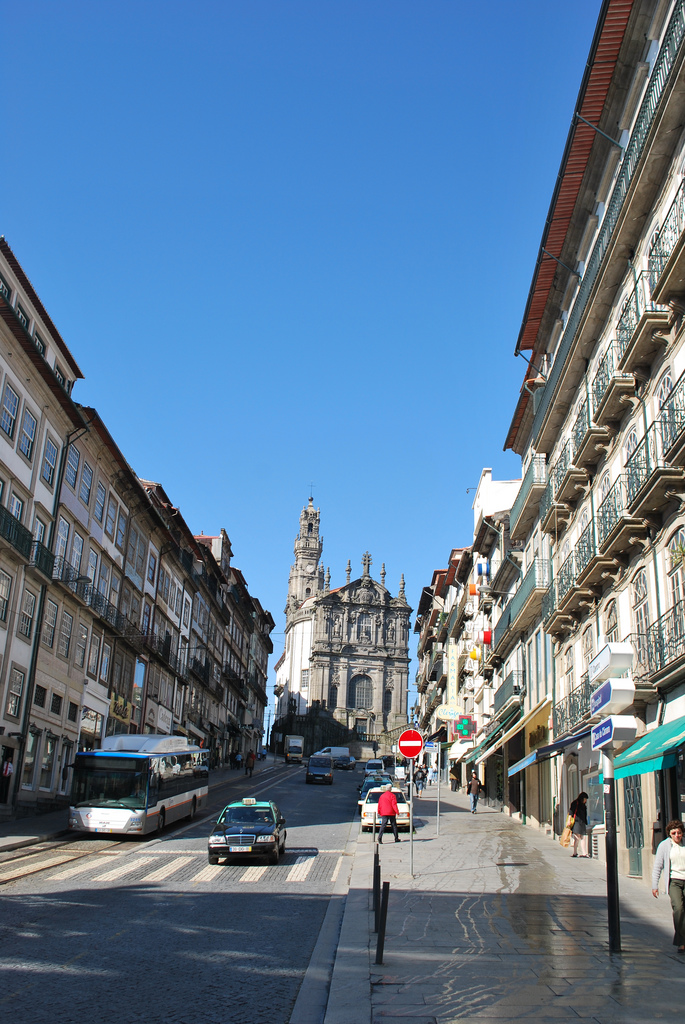clerigos: (285, 481, 323, 614)
